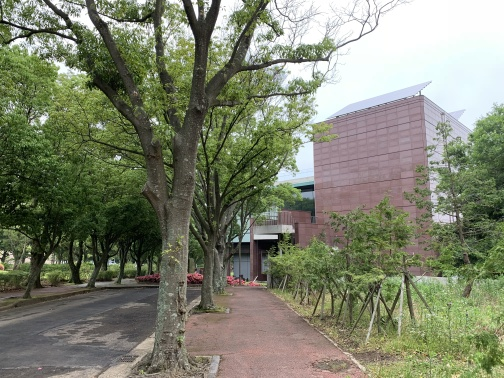Museum: (240, 81, 453, 298), (239, 202, 323, 259)
